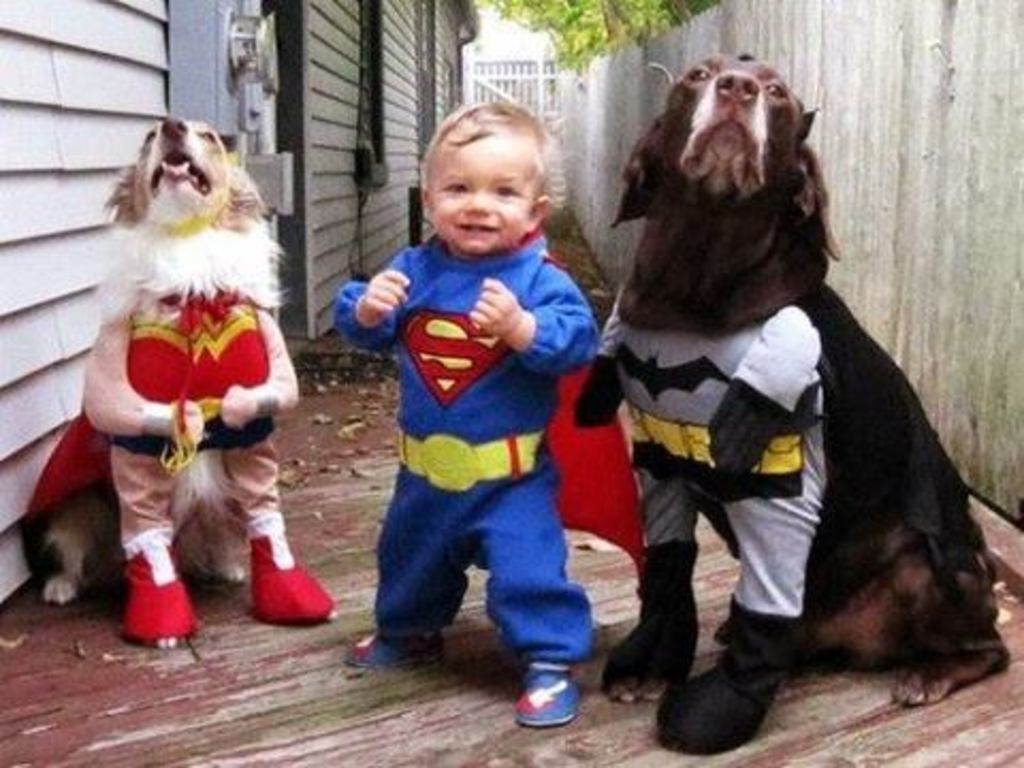Human_hand: (335, 258, 416, 339), (467, 279, 525, 339)
